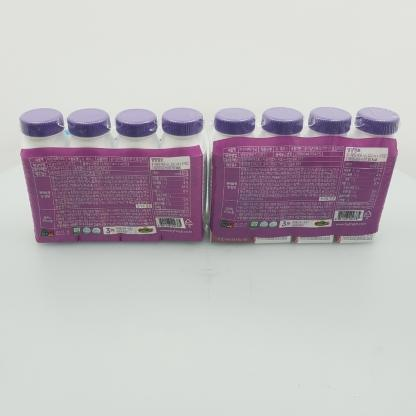-------------400ML: (207, 107, 401, 244), (17, 107, 207, 243)
